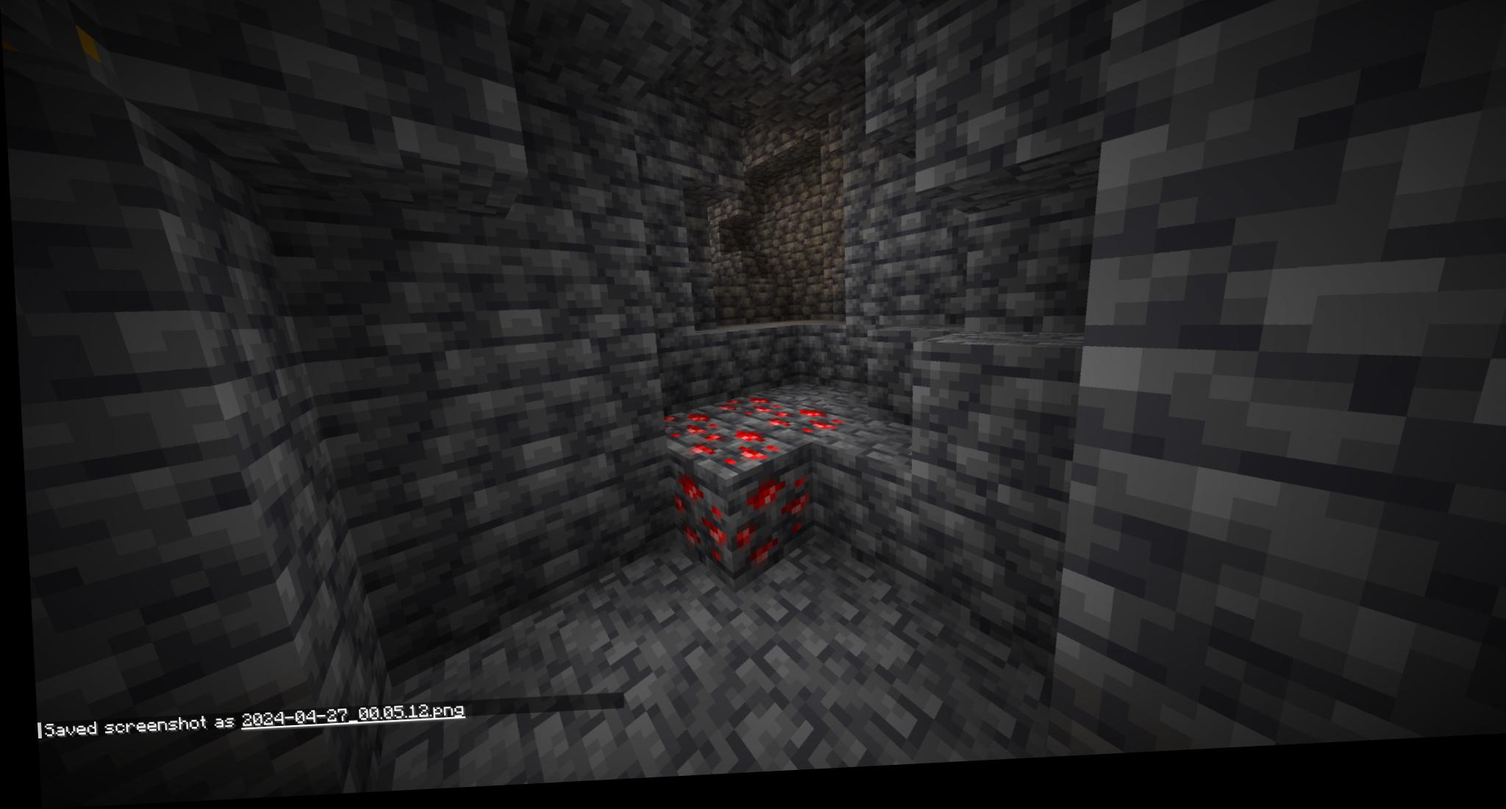redstone ore: (727, 478, 815, 569), (657, 485, 732, 580), (690, 427, 764, 477), (769, 410, 835, 454), (651, 414, 715, 456), (702, 398, 773, 433)
